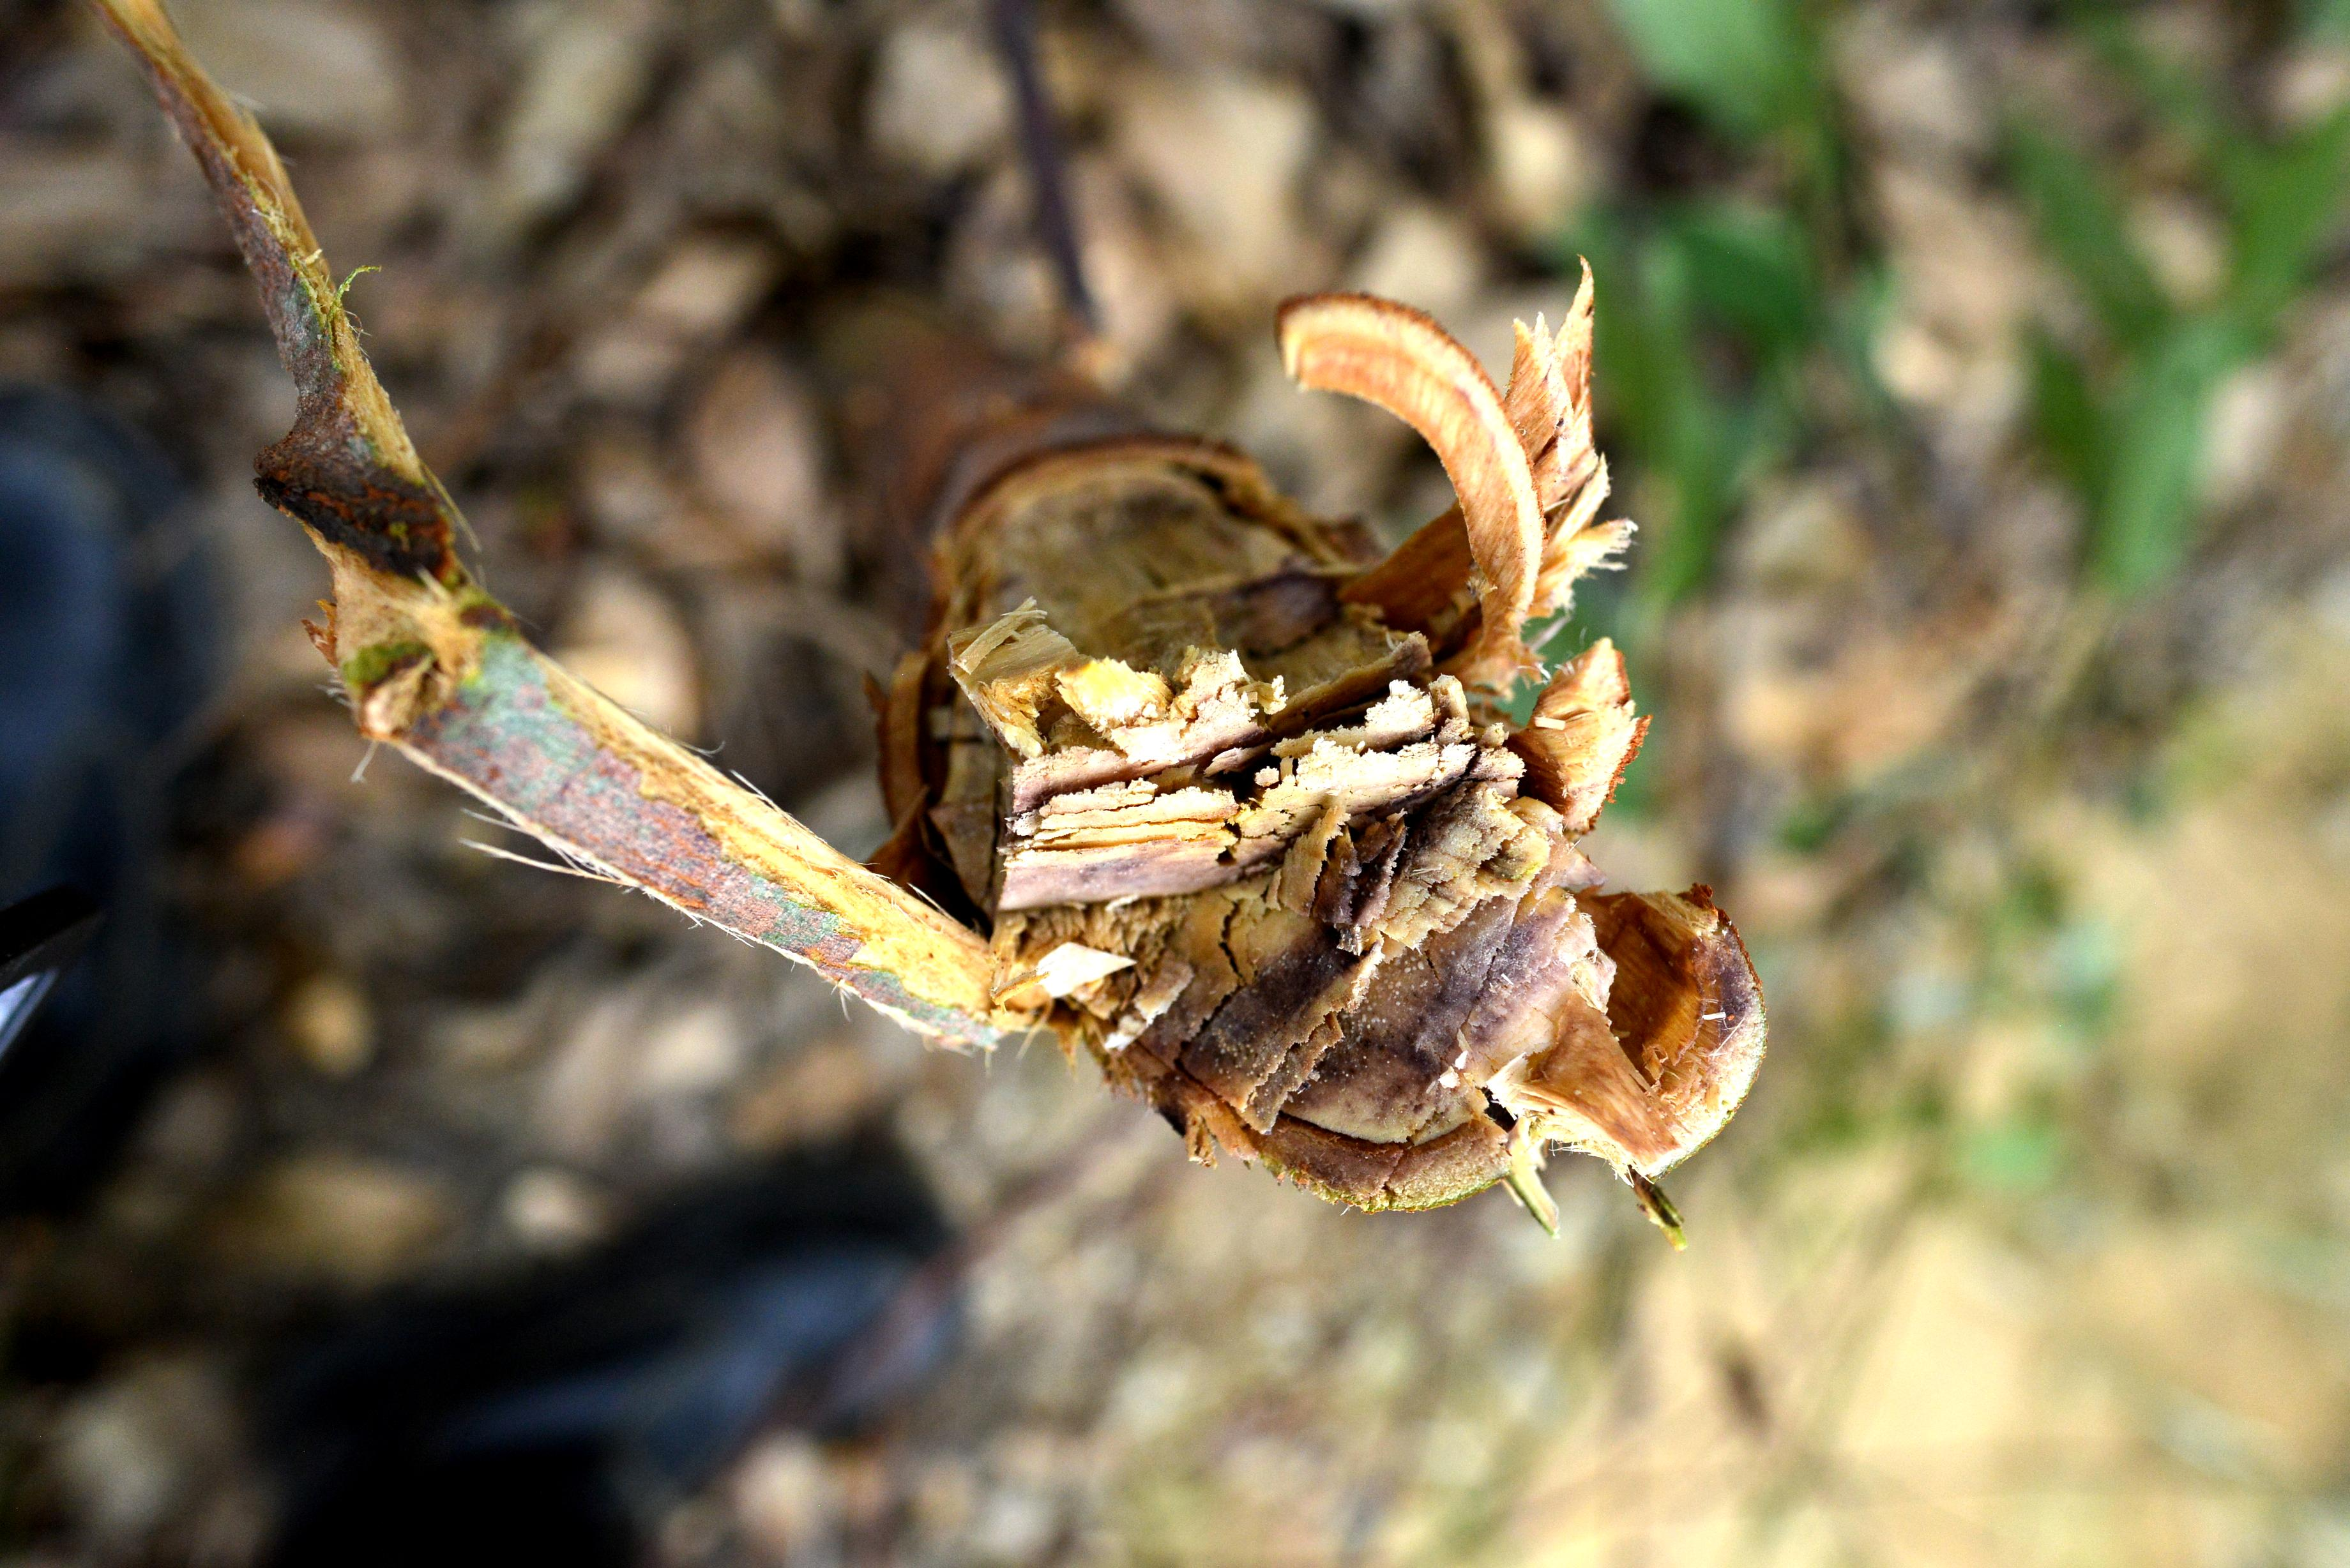Ralstonia: (1435, 878, 1575, 1085), (1253, 779, 1332, 992), (1171, 1003, 1307, 1116), (1342, 959, 1424, 1039), (1683, 920, 1741, 1027), (1078, 682, 1169, 735)
